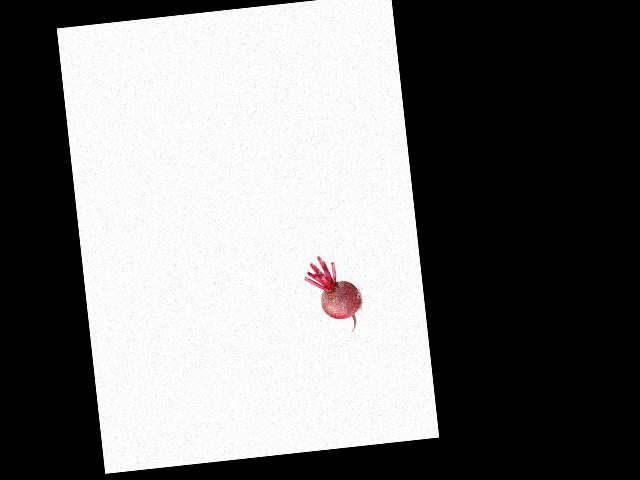beet: (302, 251, 363, 336)
